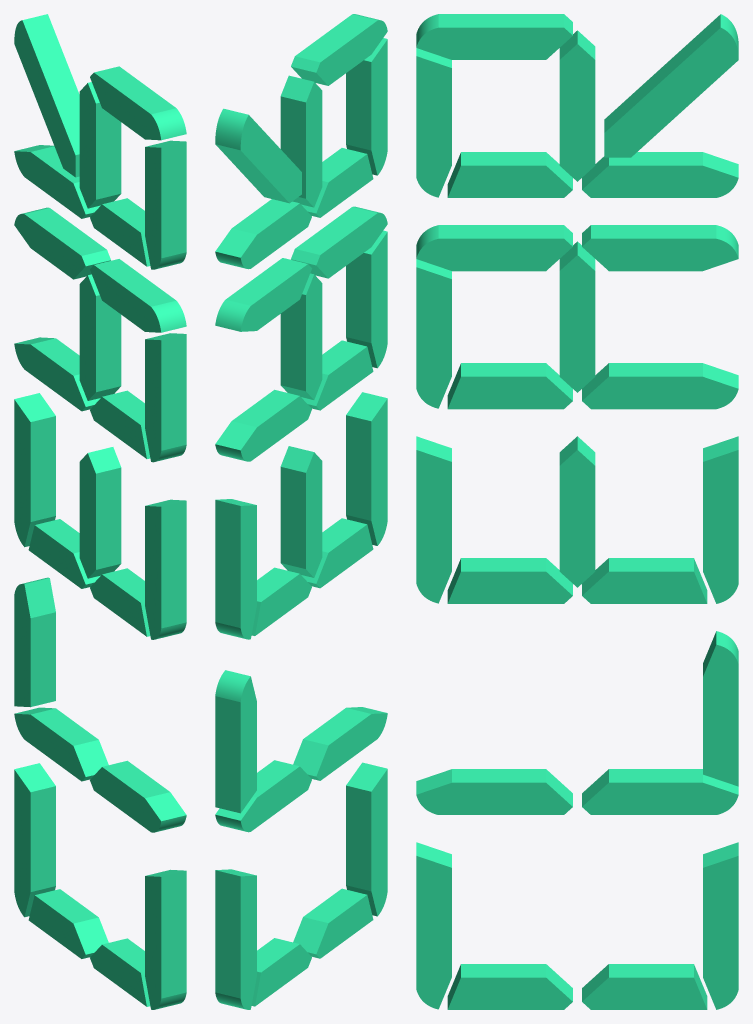
File: clear.fbx
The picture shows the model from 3 angles, left to right: view 1: azimuth 30°, elevation 25°; view 2: azimuth 150°, elevation 25°; view 3: azimuth 270°, elevation 25°; orthographic projection. The views are drawn at different scales.
Parts seen in each view (by area): view 1: Layer 10; view 2: Layer 10; view 3: Layer 10.
Part boxes in pixels (box(x1,y1,x2,y2)): Layer 10: box(14, 14, 186, 1009); Layer 10: box(215, 14, 387, 1009); Layer 10: box(416, 14, 738, 1009).
Bounding box in the file's own units: 1 × 33.61 × 10.
